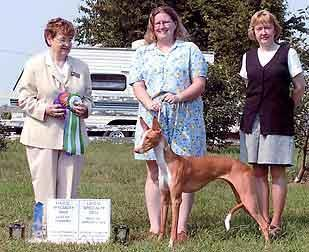Ibizan_hound: (132, 114, 272, 248)
